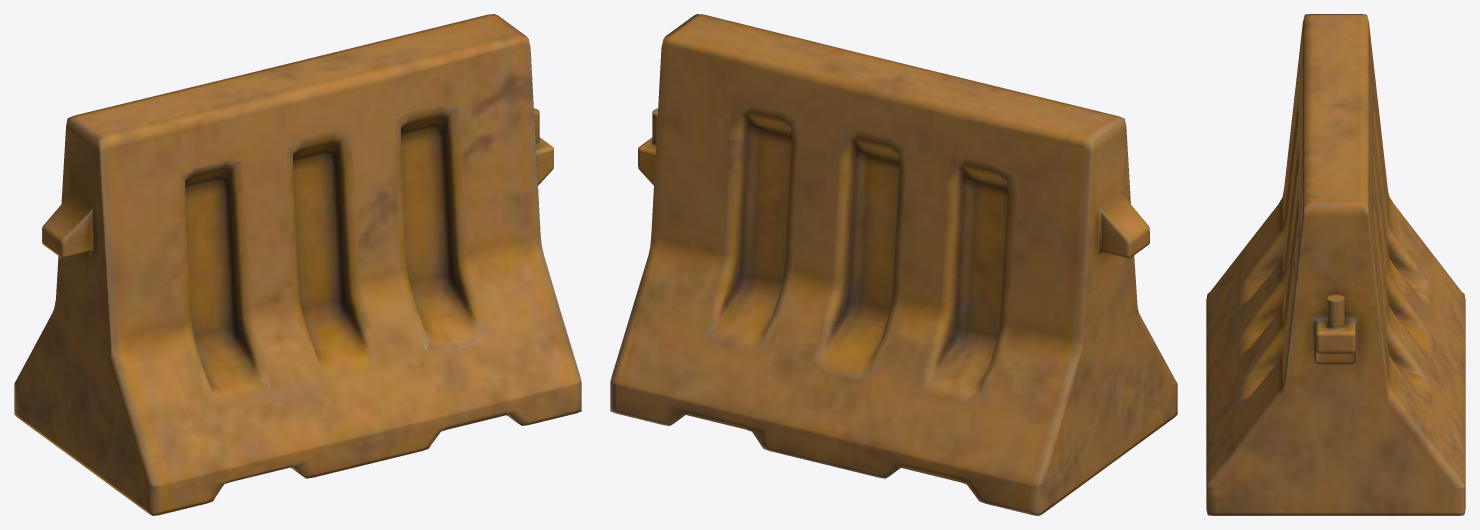
File: barrier.glb
3 renders of one model, left to right at view 1: azimuth 30°, elevation 25°; view 2: azimuth 150°, elevation 25°; view 3: azimuth 270°, elevation 25°, orthographic. The views are drawn at different scales.
Visible parts, largest first — view 1: PVCBarriersA_Rambu_0; view 2: PVCBarriersA_Rambu_0; view 3: PVCBarriersA_Rambu_0.
Part boxes in pixels (bbox=[...]): PVCBarriersA_Rambu_0: bbox=[14, 14, 581, 515]; PVCBarriersA_Rambu_0: bbox=[610, 14, 1177, 515]; PVCBarriersA_Rambu_0: bbox=[1206, 14, 1465, 515].
Size of the model in its own units: 1.6 by 1.05 by 0.7913.
Materials: 1 (1 with a texture image).
